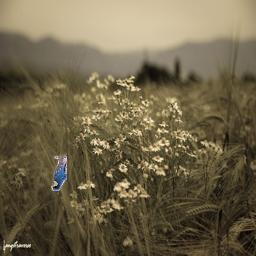Swallow: (51, 153, 67, 191)
